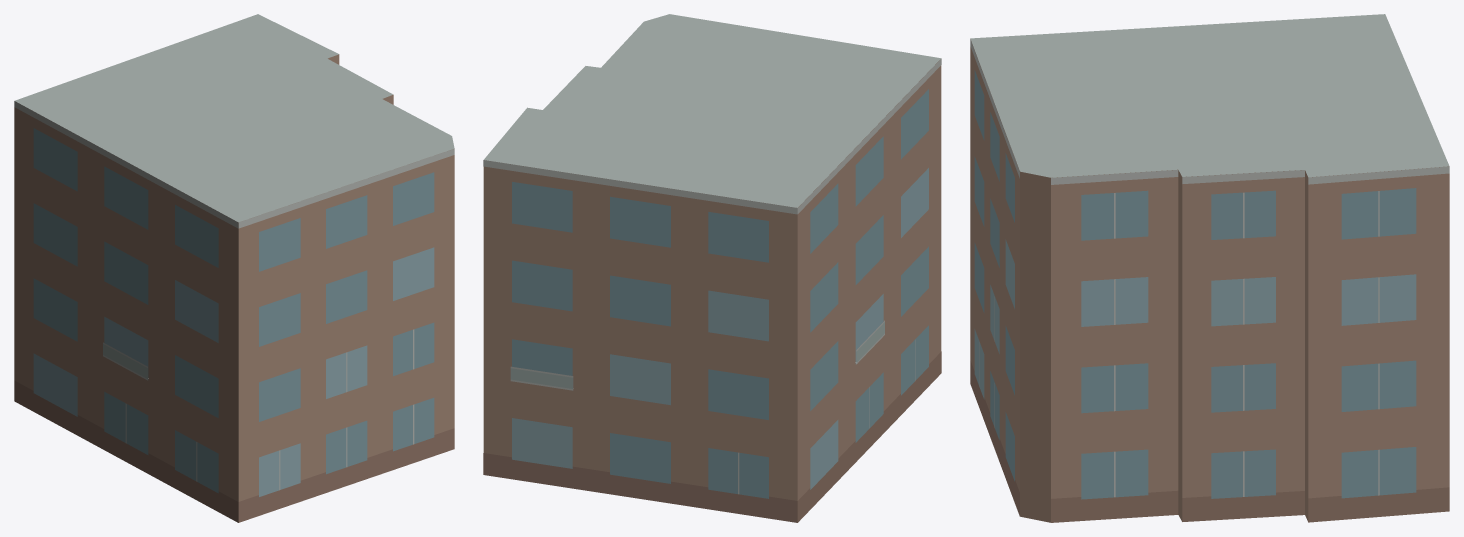
The model's file is survey-upis-32970844.glb.
3 renders of one model, left to right at view 1: azimuth 30°, elevation 25°; view 2: azimuth 150°, elevation 25°; view 3: azimuth 270°, elevation 25°, orthographic. The views are drawn at different scales.
Visible parts, largest first — view 1: survey-upis-32970844.tmp; view 2: survey-upis-32970844.tmp; view 3: survey-upis-32970844.tmp.
Boxes of the visible parts, box(x1,y1,x2,y2) form: survey-upis-32970844.tmp: box(14, 14, 454, 522); survey-upis-32970844.tmp: box(483, 14, 941, 522); survey-upis-32970844.tmp: box(970, 14, 1449, 522).
Bounding box in the file's own units: 11.92 × 11.7 × 14.74.
